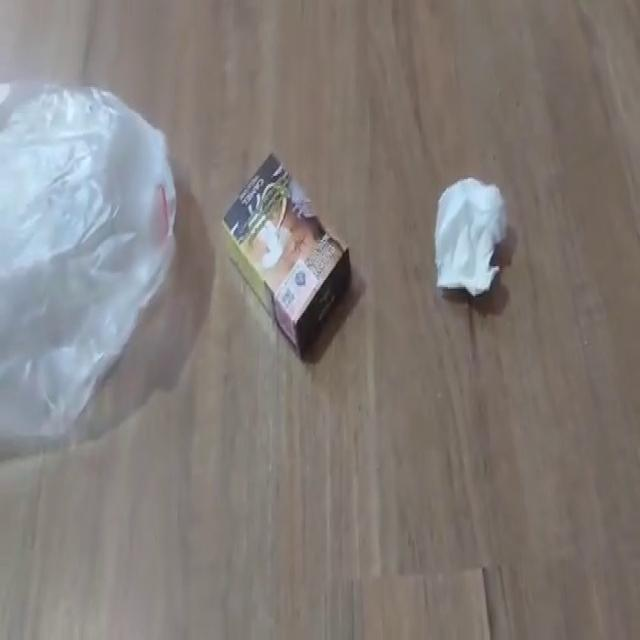Anorganik: (1, 73, 182, 450)
Organik: (220, 148, 356, 369), (433, 170, 509, 304)
